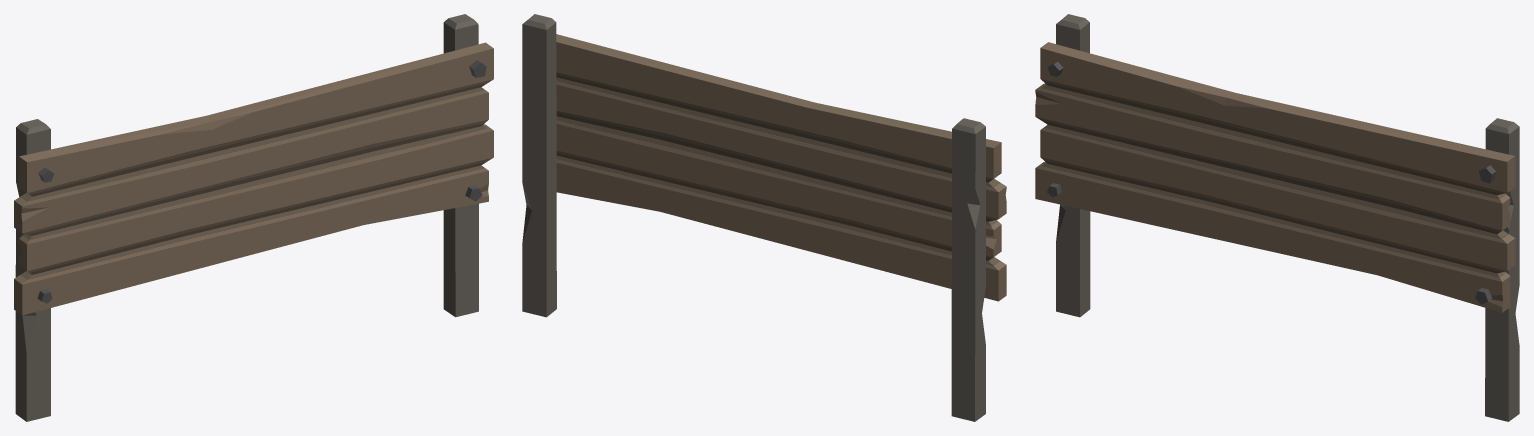
File: SM_Bld_Village_Fence_01.fbx
3 views of the same model, side by side, from view 1: azimuth 30°, elevation 25°; view 2: azimuth 150°, elevation 25°; view 3: azimuth 330°, elevation 25° (orthographic).
Visible parts, largest first — view 1: SM_Bld_Village_Fence_01; view 2: SM_Bld_Village_Fence_01; view 3: SM_Bld_Village_Fence_01.
Part boxes in pixels (x1=…): SM_Bld_Village_Fence_01: x1=14, y1=14, x2=493, y2=421; SM_Bld_Village_Fence_01: x1=522, y1=14, x2=1006, y2=421; SM_Bld_Village_Fence_01: x1=1035, y1=14, x2=1519, y2=421.
Bounding box in the file's own units: 291 × 172 × 24.83.
